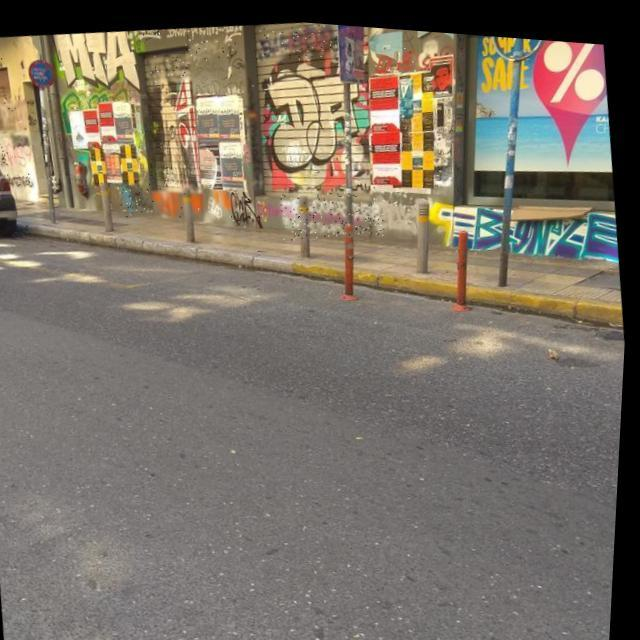-: (280, 178, 388, 242), (237, 56, 271, 186), (253, 14, 337, 62), (158, 14, 260, 50), (150, 180, 210, 223), (226, 182, 272, 229), (146, 47, 196, 82), (371, 36, 418, 72), (118, 176, 157, 217), (183, 29, 228, 62), (0, 96, 32, 136), (224, 38, 248, 68), (4, 170, 36, 192), (128, 24, 164, 40), (10, 128, 36, 146), (0, 131, 12, 169), (0, 55, 4, 72)
